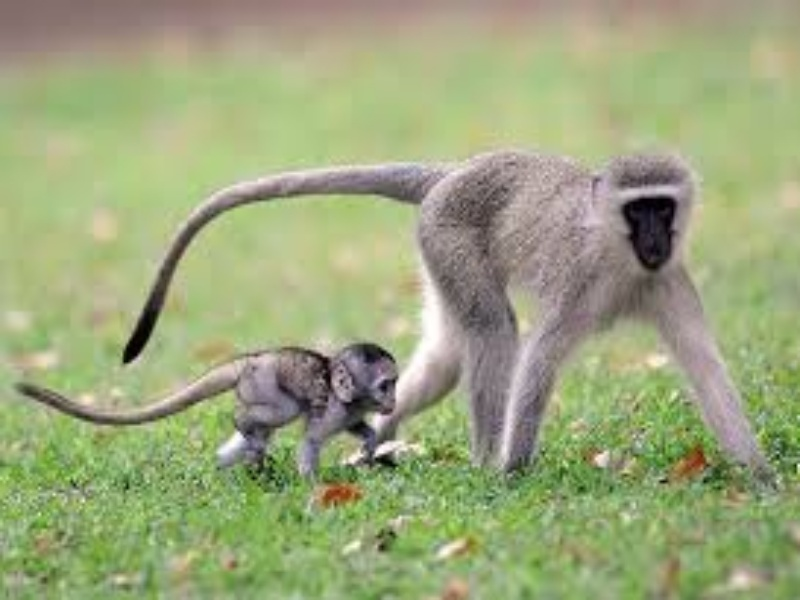monkey: (11, 145, 788, 501)
